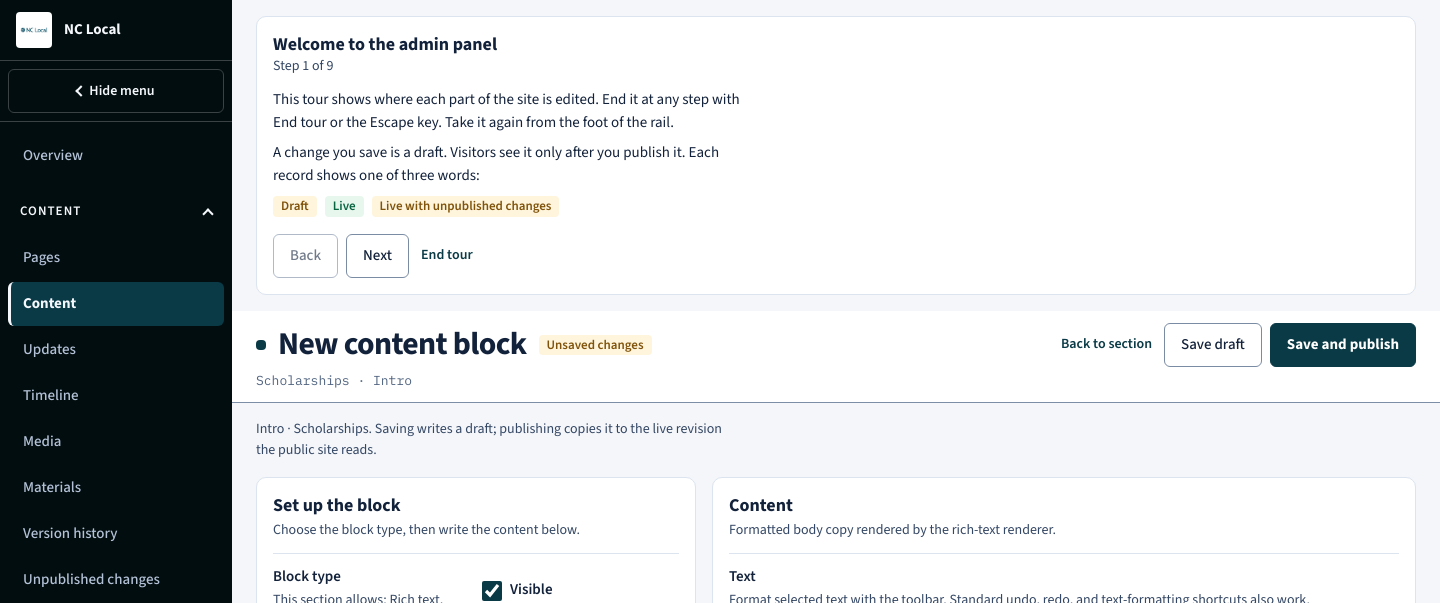
Test: creating and editing a block › creates a block and saves it as a draft only
This screenshot has width=1440, height=603.
Expected: the field labelled "Field id" is not shown
Click the button "Save draft" at [1213, 345], box [1164,323,1262,367]
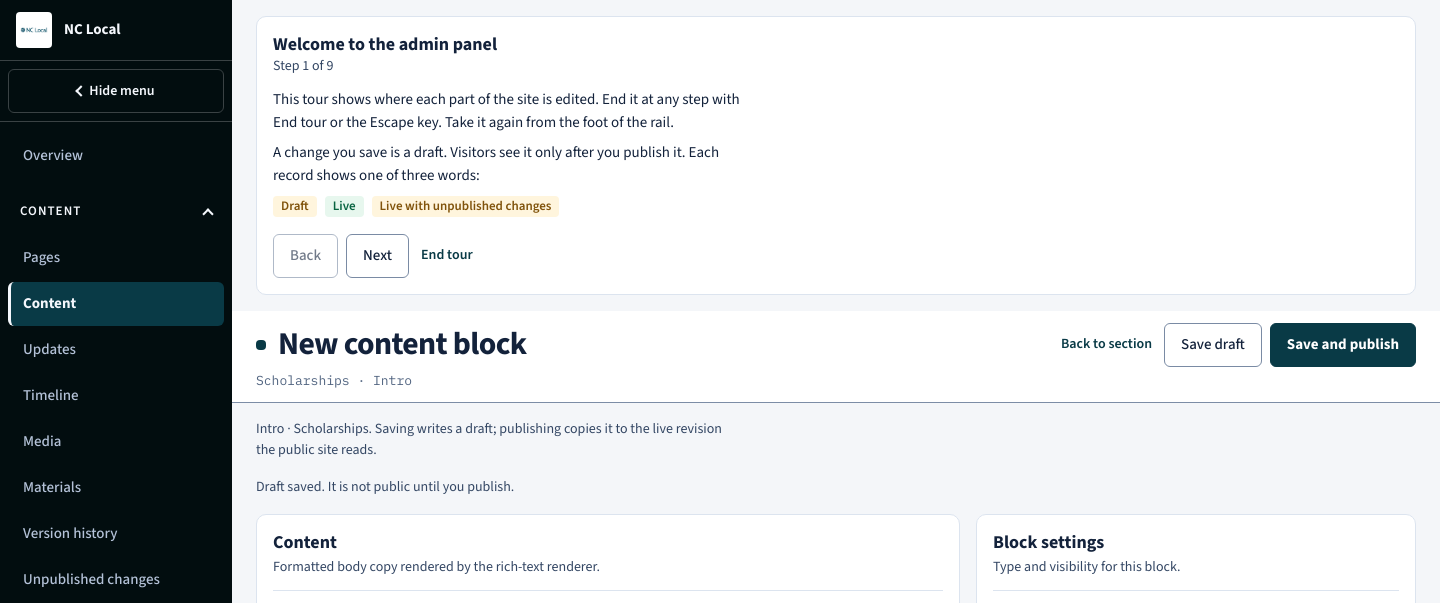
Expected: the text "Draft saved. It is not public until you publish." is shown, [256,477,514,497]
